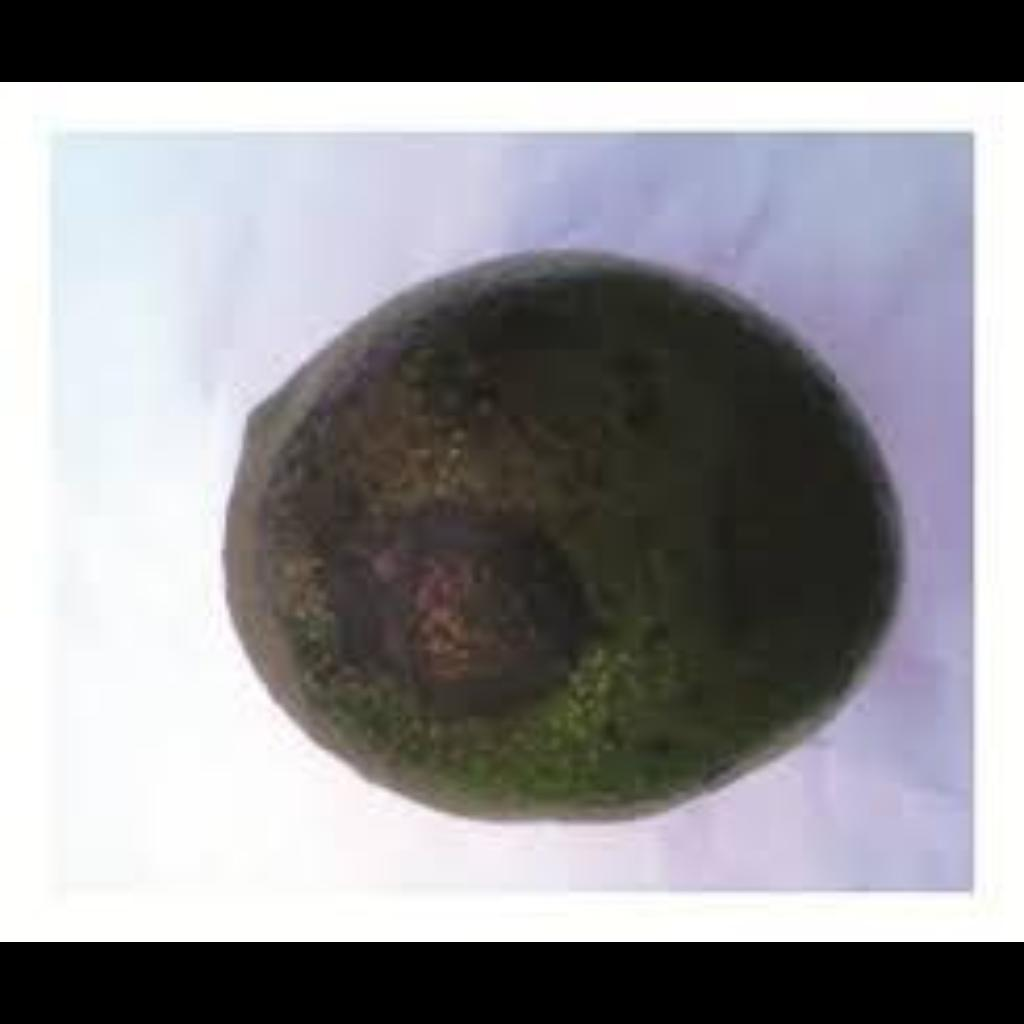antracnosis_fruto: (221, 277, 911, 804)
